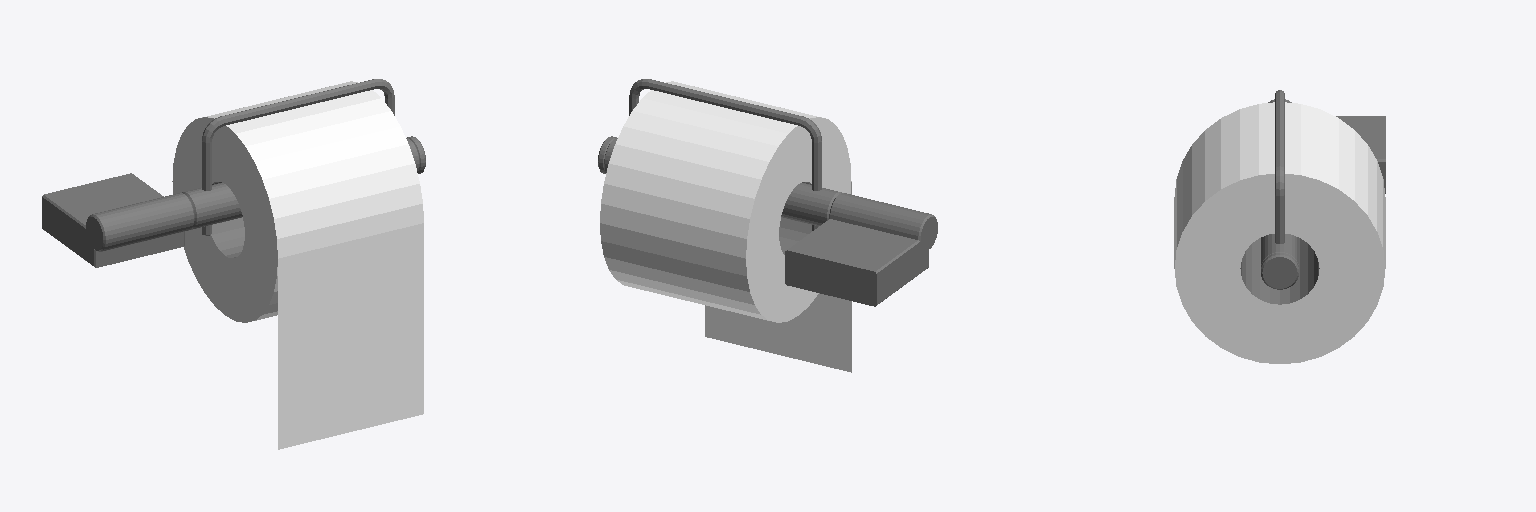
The model's file is BathPaper.obj.
The picture shows the model from 3 angles: view 1: azimuth 30°, elevation 25°; view 2: azimuth 150°, elevation 25°; view 3: azimuth 270°, elevation 25°; orthographic projection.
Parts seen in each view (by area): view 1: KLUDI_uchwyt_na_papier_[number redacted]_3_L14_KLOROLLE_5, KLUDI_uchwyt_na_papier_[number redacted]_3_L12_KLOROLLE_3, KLUDI_uchwyt_na_papier_[number redacted]_3_L11_KLOROLLE_2, KLUDI_uchwyt_na_papier_[number redacted]_3_L9_BASISHALTER_[number redacted]_4, KLUDI_uchwyt_na_papier_[number redacted]_3_L6_BASISHALTER_[number redacted]_1, KLUDI_uchwyt_na_papier_[number redacted]_3_L0_ROLLENHALTER_[number redacted]_0, KLUDI_uchwyt_na_papier_[number redacted]_3_L5_BASISHALTER_[number redacted]_0, KLUDI_uchwyt_na_papier_[number redacted]_3_L3_ROLLENHALTER_[number redacted]_3, KLUDI_uchwyt_na_papier_[number redacted]_3_L7_BASISHALTER_[number redacted]_2, KLUDI_uchwyt_na_papier_[number redacted]_3_L13_KLOROLLE_4; view 2: KLUDI_uchwyt_na_papier_[number redacted]_3_L12_KLOROLLE_3, KLUDI_uchwyt_na_papier_[number redacted]_3_L11_KLOROLLE_2, KLUDI_uchwyt_na_papier_[number redacted]_3_L14_KLOROLLE_5, KLUDI_uchwyt_na_papier_[number redacted]_3_L6_BASISHALTER_[number redacted]_1, KLUDI_uchwyt_na_papier_[number redacted]_3_L7_BASISHALTER_[number redacted]_2, KLUDI_uchwyt_na_papier_[number redacted]_3_L0_ROLLENHALTER_[number redacted]_0, KLUDI_uchwyt_na_papier_[number redacted]_3_L9_BASISHALTER_[number redacted]_4, KLUDI_uchwyt_na_papier_[number redacted]_3_L5_BASISHALTER_[number redacted]_0, KLUDI_uchwyt_na_papier_[number redacted]_3_L3_ROLLENHALTER_[number redacted]_3, KLUDI_uchwyt_na_papier_[number redacted]_3_L13_KLOROLLE_4; view 3: KLUDI_uchwyt_na_papier_[number redacted]_3_L10_KLOROLLE_1, KLUDI_uchwyt_na_papier_[number redacted]_3_L12_KLOROLLE_3, KLUDI_uchwyt_na_papier_[number redacted]_3_L13_KLOROLLE_4, KLUDI_uchwyt_na_papier_[number redacted]_3_L0_ROLLENHALTER_[number redacted]_0, KLUDI_uchwyt_na_papier_[number redacted]_3_L6_BASISHALTER_[number redacted]_1, KLUDI_uchwyt_na_papier_[number redacted]_3_L4_ROLLENHALTER_[number redacted]_4, KLUDI_uchwyt_na_papier_[number redacted]_3_L3_ROLLENHALTER_[number redacted]_3.
Boxes of the visible parts, box(x1,y1,x2,y2) form: KLUDI_uchwyt_na_papier_[number redacted]_3_L14_KLOROLLE_5: box(278, 223, 423, 449); KLUDI_uchwyt_na_papier_[number redacted]_3_L12_KLOROLLE_3: box(202, 81, 423, 320); KLUDI_uchwyt_na_papier_[number redacted]_3_L11_KLOROLLE_2: box(172, 117, 277, 322); KLUDI_uchwyt_na_papier_[number redacted]_3_L9_BASISHALTER_[number redacted]_4: box(93, 193, 193, 251); KLUDI_uchwyt_na_papier_[number redacted]_3_L6_BASISHALTER_[number redacted]_1: box(44, 173, 163, 224); KLUDI_uchwyt_na_papier_[number redacted]_3_L0_ROLLENHALTER_[number redacted]_0: box(202, 79, 394, 235); KLUDI_uchwyt_na_papier_[number redacted]_3_L5_BASISHALTER_[number redacted]_0: box(42, 197, 102, 265); KLUDI_uchwyt_na_papier_[number redacted]_3_L3_ROLLENHALTER_[number redacted]_3: box(186, 136, 425, 229); KLUDI_uchwyt_na_papier_[number redacted]_3_L7_BASISHALTER_[number redacted]_2: box(96, 232, 183, 267); KLUDI_uchwyt_na_papier_[number redacted]_3_L13_KLOROLLE_4: box(211, 182, 244, 257); KLUDI_uchwyt_na_papier_[number redacted]_3_L12_KLOROLLE_3: box(600, 81, 821, 320); KLUDI_uchwyt_na_papier_[number redacted]_3_L11_KLOROLLE_2: box(746, 117, 851, 322); KLUDI_uchwyt_na_papier_[number redacted]_3_L14_KLOROLLE_5: box(705, 182, 851, 372); KLUDI_uchwyt_na_papier_[number redacted]_3_L6_BASISHALTER_[number redacted]_1: box(788, 219, 917, 271); KLUDI_uchwyt_na_papier_[number redacted]_3_L7_BASISHALTER_[number redacted]_2: box(785, 250, 876, 306); KLUDI_uchwyt_na_papier_[number redacted]_3_L0_ROLLENHALTER_[number redacted]_0: box(629, 79, 821, 230); KLUDI_uchwyt_na_papier_[number redacted]_3_L9_BASISHALTER_[number redacted]_4: box(830, 193, 930, 239); KLUDI_uchwyt_na_papier_[number redacted]_3_L5_BASISHALTER_[number redacted]_0: box(877, 217, 937, 304); KLUDI_uchwyt_na_papier_[number redacted]_3_L3_ROLLENHALTER_[number redacted]_3: box(598, 136, 837, 225); KLUDI_uchwyt_na_papier_[number redacted]_3_L13_KLOROLLE_4: box(779, 182, 811, 254); KLUDI_uchwyt_na_papier_[number redacted]_3_L10_KLOROLLE_1: box(1175, 174, 1384, 363); KLUDI_uchwyt_na_papier_[number redacted]_3_L12_KLOROLLE_3: box(1174, 102, 1385, 268); KLUDI_uchwyt_na_papier_[number redacted]_3_L13_KLOROLLE_4: box(1240, 238, 1319, 304); KLUDI_uchwyt_na_papier_[number redacted]_3_L0_ROLLENHALTER_[number redacted]_0: box(1275, 90, 1284, 243); KLUDI_uchwyt_na_papier_[number redacted]_3_L6_BASISHALTER_[number redacted]_1: box(1336, 116, 1385, 158); KLUDI_uchwyt_na_papier_[number redacted]_3_L4_ROLLENHALTER_[number redacted]_4: box(1262, 257, 1297, 288); KLUDI_uchwyt_na_papier_[number redacted]_3_L3_ROLLENHALTER_[number redacted]_3: box(1261, 234, 1298, 266).
Bounding box in the file's own units: 21.2 × 18.54 × 12.